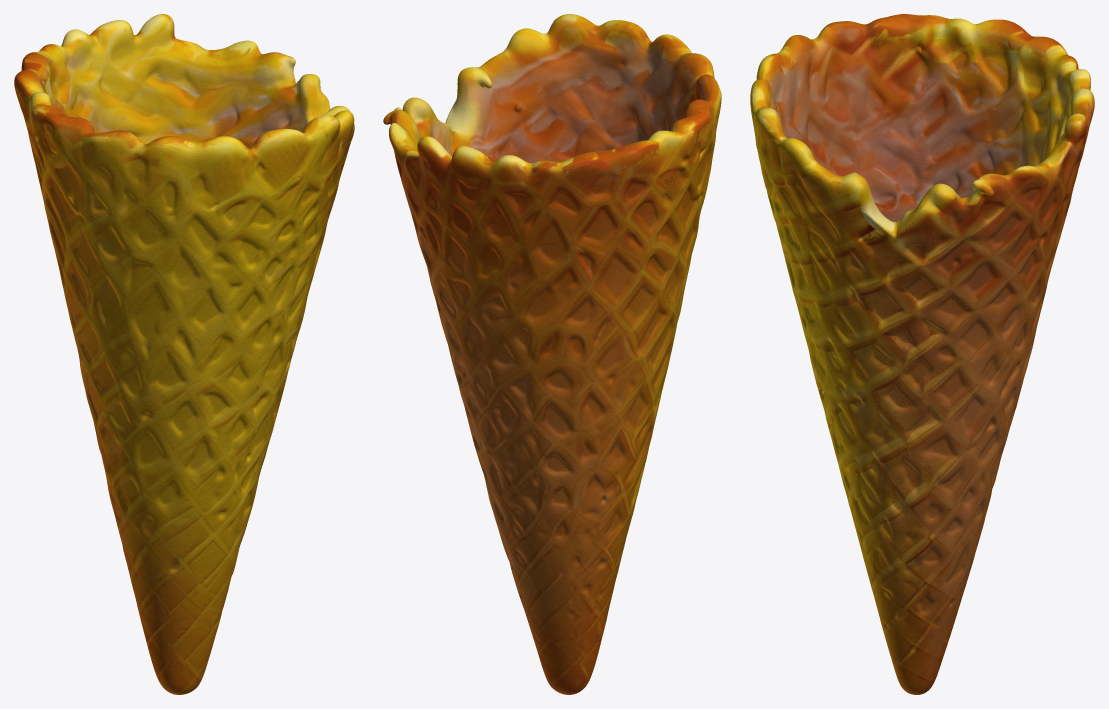
3 renders of one model, left to right at view 1: azimuth 30°, elevation 25°; view 2: azimuth 150°, elevation 25°; view 3: azimuth 270°, elevation 25°, orthographic.
Parts seen in each view (by area): view 1: tripo_node_4da1342c-476c-406e-ad32-254cad6a06e2; view 2: tripo_node_4da1342c-476c-406e-ad32-254cad6a06e2; view 3: tripo_node_4da1342c-476c-406e-ad32-254cad6a06e2.
Part boxes in pixels (x1,y1,x2,y2): tripo_node_4da1342c-476c-406e-ad32-254cad6a06e2: (14,14,354,694); tripo_node_4da1342c-476c-406e-ad32-254cad6a06e2: (383,14,721,694); tripo_node_4da1342c-476c-406e-ad32-254cad6a06e2: (750,14,1094,694).
Size of the model in its own units: 0.4887 by 1 by 0.5039.
Materials: 1 (1 with a texture image).
